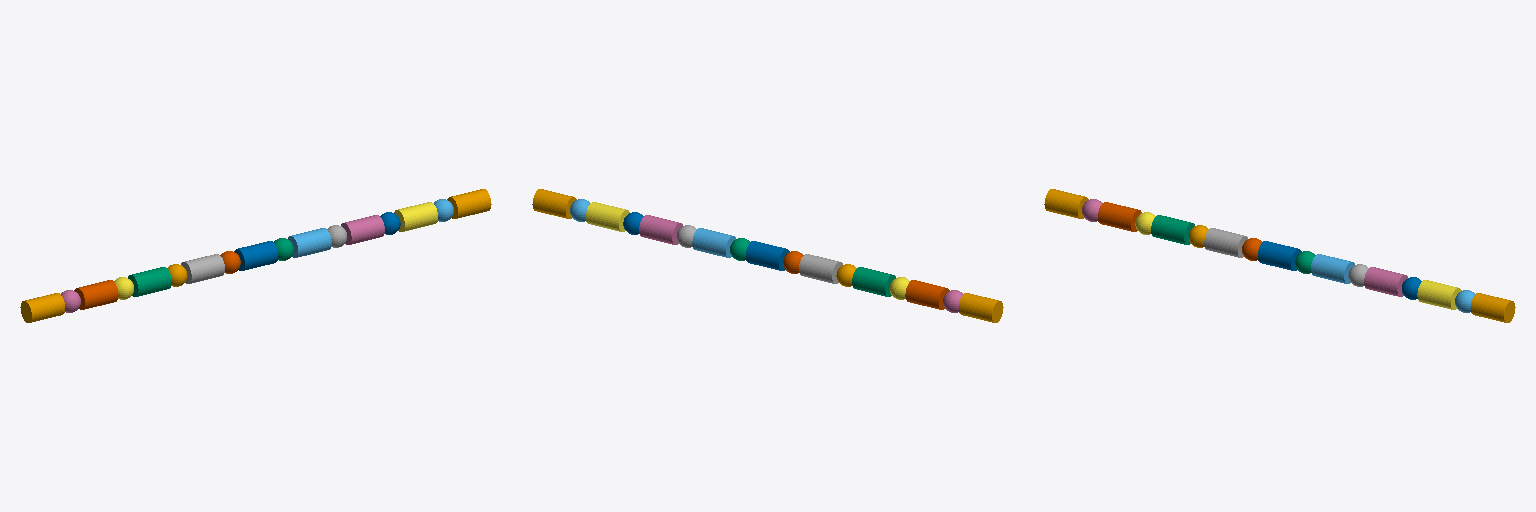
robot.urdf — cable/cable_8_segments:
<?xml version="1.0"?>
<robot name="cable/cable_8_segments">
 <link name="body0">
  <inertial>
    <mass value="1"/>
    <inertia ixx="0.0010583333333333334" ixy="0" ixz="0" iyy="0.0010583333333333334" iyz="0" izz="0.000225"/>
  </inertial>
  <visual>
    <origin rpy="0 1.57 0" xyz="0.05 0 0"/>
    <geometry>
      <cylinder length="0.1" radius="0.03"/>
    </geometry>
  </visual>
  <collision>
    <origin rpy="0 1.57 0" xyz="0.05 0 0"/>
    <geometry>
      <cylinder length="0.1" radius="0.03"/>
    </geometry>
  </collision>
 </link>

<link name="body1_joint_link">
  <inertial>
   <mass value="1"/>
   <inertia ixx="0.00035999999999999997" ixy="0" ixz="0" iyy="0.00035999999999999997" iyz="0" izz="0.00035999999999999997"/>
  </inertial>
  <collision>
    <origin rpy="0 0 0" xyz="0 0 0"/>
    <geometry>
      <sphere radius="0.03"/>
    </geometry>
  </collision>
  <visual>
    <origin rpy="0 0 0" xyz="0 0 0"/>
    <geometry>
      <sphere radius="0.03"/>
    </geometry>
  </visual>
</link>

<joint name="joint_fixed_body0_body1_joint_link" type="fixed">
  <origin rpy="0 0 0" xyz="-0.03001 0 0"/>
  <parent link="body0"/>
  <child link="body1_joint_link"/>
</joint>

<joint name="joint_spherical_body1_joint_link_body1_Z" type="revolute">
  <origin rpy="0 0 0" xyz="0 0 0"/>
  <parent link="body1_joint_link"/>
  <child link="body1_joint_link_spherical_joint_link"/>
  <axis xyz="0 0 1"/>
  <dynamics damping="0.01" friction="0.5"/>
  <limit lower="-1.5707963267948966" upper="1.5707963267948966" effort="0.01" velocity="100"/>
</joint>

<link name="body1_joint_link_spherical_joint_link" physical="0">
  <inertial>
   <mass value="1"/>
   <inertia ixx="4.0000000000000003e-07" ixy="0" ixz="0" iyy="4.0000000000000003e-07" iyz="0" izz="4.0000000000000003e-07"/>
  </inertial>
  <collision>
    <origin rpy="0 0 0" xyz="0 0 0"/>
    <geometry>
      <sphere radius="0.001"/>
    </geometry>
  </collision>
  <visual>
    <origin rpy="0 0 0" xyz="0 0 0"/>
    <geometry>
      <sphere radius="0.001"/>
    </geometry>
  </visual>
</link>

<joint name="joint_spherical_body1_joint_link_body1_Y" type="revolute">
  <origin rpy="0 0 0" xyz="0 0 0"/>
  <parent link="body1_joint_link_spherical_joint_link"/>
  <child link="body1"/>
  <axis xyz="0 1 0"/>
  <dynamics damping="0.01" friction="0.5"/>
  <limit lower="-1.5707963267948966" upper="1.5707963267948966" effort="0.01" velocity="100"/>
</joint>

 <link name="body1">
  <inertial>
    <mass value="1"/>
    <inertia ixx="0.0010583333333333334" ixy="0" ixz="0" iyy="0.0010583333333333334" iyz="0" izz="0.000225"/>
  </inertial>
  <visual>
    <origin rpy="0 1.57 0" xyz="-0.08001 0 0"/>
    <geometry>
      <cylinder length="0.1" radius="0.03"/>
    </geometry>
  </visual>
  <collision>
    <origin rpy="0 1.57 0" xyz="-0.08001 0 0"/>
    <geometry>
      <cylinder length="0.1" radius="0.03"/>
    </geometry>
  </collision>
 </link>

<link name="body2_joint_link">
  <inertial>
   <mass value="1"/>
   <inertia ixx="0.00035999999999999997" ixy="0" ixz="0" iyy="0.00035999999999999997" iyz="0" izz="0.00035999999999999997"/>
  </inertial>
  <collision>
    <origin rpy="0 0 0" xyz="0 0 0"/>
    <geometry>
      <sphere radius="0.03"/>
    </geometry>
  </collision>
  <visual>
    <origin rpy="0 0 0" xyz="0 0 0"/>
    <geometry>
      <sphere radius="0.03"/>
    </geometry>
  </visual>
</link>

<joint name="joint_fixed_body1_body2_joint_link" type="fixed">
  <origin rpy="0 0 0" xyz="-0.16001 0 0"/>
  <parent link="body1"/>
  <child link="body2_joint_link"/>
</joint>

<joint name="joint_spherical_body2_joint_link_body2_Z" type="revolute">
  <origin rpy="0 0 0" xyz="0 0 0"/>
  <parent link="body2_joint_link"/>
  <child link="body2_joint_link_spherical_joint_link"/>
  <axis xyz="0 0 1"/>
  <dynamics damping="0.01" friction="0.5"/>
  <limit lower="-1.5707963267948966" upper="1.5707963267948966" effort="0.01" velocity="100"/>
</joint>

<link name="body2_joint_link_spherical_joint_link" physical="0">
  <inertial>
   <mass value="1"/>
   <inertia ixx="4.0000000000000003e-07" ixy="0" ixz="0" iyy="4.0000000000000003e-07" iyz="0" izz="4.0000000000000003e-07"/>
  </inertial>
  <collision>
    <origin rpy="0 0 0" xyz="0 0 0"/>
    <geometry>
      <sphere radius="0.001"/>
    </geometry>
  </collision>
  <visual>
    <origin rpy="0 0 0" xyz="0 0 0"/>
    <geometry>
      <sphere radius="0.001"/>
    </geometry>
  </visual>
</link>

<joint name="joint_spherical_body2_joint_link_body2_Y" type="revolute">
  <origin rpy="0 0 0" xyz="0 0 0"/>
  <parent link="body2_joint_link_spherical_joint_link"/>
  <child link="body2"/>
  <axis xyz="0 1 0"/>
  <dynamics damping="0.01" friction="0.5"/>
  <limit lower="-1.5707963267948966" upper="1.5707963267948966" effort="0.01" velocity="100"/>
</joint>

 <link name="body2">
  <inertial>
    <mass value="1"/>
    <inertia ixx="0.0010583333333333334" ixy="0" ixz="0" iyy="0.0010583333333333334" iyz="0" izz="0.000225"/>
  </inertial>
  <visual>
    <origin rpy="0 1.57 0" xyz="-0.08001 0 0"/>
    <geometry>
      <cylinder length="0.1" radius="0.03"/>
    </geometry>
  </visual>
  <collision>
    <origin rpy="0 1.57 0" xyz="-0.08001 0 0"/>
    <geometry>
      <cylinder length="0.1" radius="0.03"/>
    </geometry>
  </collision>
 </link>

<link name="body3_joint_link">
  <inertial>
   <mass value="1"/>
   <inertia ixx="0.00035999999999999997" ixy="0" ixz="0" iyy="0.00035999999999999997" iyz="0" izz="0.00035999999999999997"/>
  </inertial>
  <collision>
    <origin rpy="0 0 0" xyz="0 0 0"/>
    <geometry>
      <sphere radius="0.03"/>
    </geometry>
  </collision>
  <visual>
    <origin rpy="0 0 0" xyz="0 0 0"/>
    <geometry>
      <sphere radius="0.03"/>
    </geometry>
  </visual>
</link>

<joint name="joint_fixed_body2_body3_joint_link" type="fixed">
  <origin rpy="0 0 0" xyz="-0.16001 0 0"/>
  <parent link="body2"/>
  <child link="body3_joint_link"/>
</joint>

<joint name="joint_spherical_body3_joint_link_body3_Z" type="revolute">
  <origin rpy="0 0 0" xyz="0 0 0"/>
  <parent link="body3_joint_link"/>
  <child link="body3_joint_link_spherical_joint_link"/>
  <axis xyz="0 0 1"/>
  <dynamics damping="0.01" friction="0.5"/>
  <limit lower="-1.5707963267948966" upper="1.5707963267948966" effort="0.01" velocity="100"/>
</joint>

<link name="body3_joint_link_spherical_joint_link" physical="0">
  <inertial>
   <mass value="1"/>
   <inertia ixx="4.0000000000000003e-07" ixy="0" ixz="0" iyy="4.0000000000000003e-07" iyz="0" izz="4.0000000000000003e-07"/>
  </inertial>
  <collision>
    <origin rpy="0 0 0" xyz="0 0 0"/>
    <geometry>
      <sphere radius="0.001"/>
    </geometry>
  </collision>
  <visual>
    <origin rpy="0 0 0" xyz="0 0 0"/>
    <geometry>
      <sphere radius="0.001"/>
    </geometry>
  </visual>
</link>

<joint name="joint_spherical_body3_joint_link_body3_Y" type="revolute">
  <origin rpy="0 0 0" xyz="0 0 0"/>
  <parent link="body3_joint_link_spherical_joint_link"/>
  <child link="body3"/>
  <axis xyz="0 1 0"/>
  <dynamics damping="0.01" friction="0.5"/>
  <limit lower="-1.5707963267948966" upper="1.5707963267948966" effort="0.01" velocity="100"/>
</joint>

 <link name="body3">
  <inertial>
    <mass value="1"/>
    <inertia ixx="0.0010583333333333334" ixy="0" ixz="0" iyy="0.0010583333333333334" iyz="0" izz="0.000225"/>
  </inertial>
  <visual>
    <origin rpy="0 1.57 0" xyz="-0.08001 0 0"/>
    <geometry>
      <cylinder length="0.1" radius="0.03"/>
    </geometry>
  </visual>
  <collision>
    <origin rpy="0 1.57 0" xyz="-0.08001 0 0"/>
    <geometry>
      <cylinder length="0.1" radius="0.03"/>
    </geometry>
  </collision>
 </link>

<link name="body4_joint_link">
  <inertial>
   <mass value="1"/>
   <inertia ixx="0.00035999999999999997" ixy="0" ixz="0" iyy="0.00035999999999999997" iyz="0" izz="0.00035999999999999997"/>
  </inertial>
  <collision>
    <origin rpy="0 0 0" xyz="0 0 0"/>
    <geometry>
      <sphere radius="0.03"/>
    </geometry>
  </collision>
  <visual>
    <origin rpy="0 0 0" xyz="0 0 0"/>
    <geometry>
      <sphere radius="0.03"/>
    </geometry>
  </visual>
</link>

<joint name="joint_fixed_body3_body4_joint_link" type="fixed">
  <origin rpy="0 0 0" xyz="-0.16001 0 0"/>
  <parent link="body3"/>
  <child link="body4_joint_link"/>
</joint>

<joint name="joint_spherical_body4_joint_link_body4_Z" type="revolute">
  <origin rpy="0 0 0" xyz="0 0 0"/>
  <parent link="body4_joint_link"/>
  <child link="body4_joint_link_spherical_joint_link"/>
  <axis xyz="0 0 1"/>
  <dynamics damping="0.01" friction="0.5"/>
  <limit lower="-1.5707963267948966" upper="1.5707963267948966" effort="0.01" velocity="100"/>
</joint>

<link name="body4_joint_link_spherical_joint_link" physical="0">
  <inertial>
   <mass value="1"/>
   <inertia ixx="4.0000000000000003e-07" ixy="0" ixz="0" iyy="4.0000000000000003e-07" iyz="0" izz="4.0000000000000003e-07"/>
  </inertial>
  <collision>
    <origin rpy="0 0 0" xyz="0 0 0"/>
    <geometry>
      <sphere radius="0.001"/>
    </geometry>
  </collision>
  <visual>
    <origin rpy="0 0 0" xyz="0 0 0"/>
    <geometry>
      <sphere radius="0.001"/>
    </geometry>
  </visual>
</link>

<joint name="joint_spherical_body4_joint_link_body4_Y" type="revolute">
  <origin rpy="0 0 0" xyz="0 0 0"/>
  <parent link="body4_joint_link_spherical_joint_link"/>
  <child link="body4"/>
  <axis xyz="0 1 0"/>
  <dynamics damping="0.01" friction="0.5"/>
  <limit lower="-1.5707963267948966" upper="1.5707963267948966" effort="0.01" velocity="100"/>
</joint>

 <link name="body4">
  <inertial>
    <mass value="1"/>
    <inertia ixx="0.0010583333333333334" ixy="0" ixz="0" iyy="0.0010583333333333334" iyz="0" izz="0.000225"/>
  </inertial>
  <visual>
    <origin rpy="0 1.57 0" xyz="-0.08001 0 0"/>
    <geometry>
      <cylinder length="0.1" radius="0.03"/>
    </geometry>
  </visual>
  <collision>
    <origin rpy="0 1.57 0" xyz="-0.08001 0 0"/>
    <geometry>
      <cylinder length="0.1" radius="0.03"/>
    </geometry>
  </collision>
 </link>

<link name="body5_joint_link">
  <inertial>
   <mass value="1"/>
   <inertia ixx="0.00035999999999999997" ixy="0" ixz="0" iyy="0.00035999999999999997" iyz="0" izz="0.00035999999999999997"/>
  </inertial>
  <collision>
    <origin rpy="0 0 0" xyz="0 0 0"/>
    <geometry>
      <sphere radius="0.03"/>
    </geometry>
  </collision>
  <visual>
    <origin rpy="0 0 0" xyz="0 0 0"/>
    <geometry>
      <sphere radius="0.03"/>
    </geometry>
  </visual>
</link>

<joint name="joint_fixed_body4_body5_joint_link" type="fixed">
  <origin rpy="0 0 0" xyz="-0.16001 0 0"/>
  <parent link="body4"/>
  <child link="body5_joint_link"/>
</joint>

<joint name="joint_spherical_body5_joint_link_body5_Z" type="revolute">
  <origin rpy="0 0 0" xyz="0 0 0"/>
  <parent link="body5_joint_link"/>
  <child link="body5_joint_link_spherical_joint_link"/>
  <axis xyz="0 0 1"/>
  <dynamics damping="0.01" friction="0.5"/>
  <limit lower="-1.5707963267948966" upper="1.5707963267948966" effort="0.01" velocity="100"/>
</joint>

<link name="body5_joint_link_spherical_joint_link" physical="0">
  <inertial>
   <mass value="1"/>
   <inertia ixx="4.0000000000000003e-07" ixy="0" ixz="0" iyy="4.0000000000000003e-07" iyz="0" izz="4.0000000000000003e-07"/>
  </inertial>
  <collision>
    <origin rpy="0 0 0" xyz="0 0 0"/>
    <geometry>
      <sphere radius="0.001"/>
    </geometry>
  </collision>
  <visual>
    <origin rpy="0 0 0" xyz="0 0 0"/>
    <geometry>
      <sphere radius="0.001"/>
    </geometry>
  </visual>
</link>

<joint name="joint_spherical_body5_joint_link_body5_Y" type="revolute">
  <origin rpy="0 0 0" xyz="0 0 0"/>
  <parent link="body5_joint_link_spherical_joint_link"/>
  <child link="body5"/>
  <axis xyz="0 1 0"/>
  <dynamics damping="0.01" friction="0.5"/>
  <limit lower="-1.5707963267948966" upper="1.5707963267948966" effort="0.01" velocity="100"/>
</joint>

 <link name="body5">
  <inertial>
    <mass value="1"/>
    <inertia ixx="0.0010583333333333334" ixy="0" ixz="0" iyy="0.0010583333333333334" iyz="0" izz="0.000225"/>
  </inertial>
  <visual>
    <origin rpy="0 1.57 0" xyz="-0.08001 0 0"/>
    <geometry>
      <cylinder length="0.1" radius="0.03"/>
    </geometry>
  </visual>
  <collision>
    <origin rpy="0 1.57 0" xyz="-0.08001 0 0"/>
    <geometry>
      <cylinder length="0.1" radius="0.03"/>
    </geometry>
  </collision>
 </link>

<link name="body6_joint_link">
  <inertial>
   <mass value="1"/>
   <inertia ixx="0.00035999999999999997" ixy="0" ixz="0" iyy="0.00035999999999999997" iyz="0" izz="0.00035999999999999997"/>
  </inertial>
  <collision>
    <origin rpy="0 0 0" xyz="0 0 0"/>
    <geometry>
      <sphere radius="0.03"/>
    </geometry>
  </collision>
  <visual>
    <origin rpy="0 0 0" xyz="0 0 0"/>
    <geometry>
      <sphere radius="0.03"/>
    </geometry>
  </visual>
</link>

<joint name="joint_fixed_body5_body6_joint_link" type="fixed">
  <origin rpy="0 0 0" xyz="-0.16001 0 0"/>
  <parent link="body5"/>
  <child link="body6_joint_link"/>
</joint>

<joint name="joint_spherical_body6_joint_link_body6_Z" type="revolute">
  <origin rpy="0 0 0" xyz="0 0 0"/>
  <parent link="body6_joint_link"/>
  <child link="body6_joint_link_spherical_joint_link"/>
  <axis xyz="0 0 1"/>
  <dynamics damping="0.01" friction="0.5"/>
  <limit lower="-1.5707963267948966" upper="1.5707963267948966" effort="0.01" velocity="100"/>
</joint>

<link name="body6_joint_link_spherical_joint_link" physical="0">
  <inertial>
   <mass value="1"/>
   <inertia ixx="4.0000000000000003e-07" ixy="0" ixz="0" iyy="4.0000000000000003e-07" iyz="0" izz="4.0000000000000003e-07"/>
  </inertial>
  <collision>
    <origin rpy="0 0 0" xyz="0 0 0"/>
    <geometry>
      <sphere radius="0.001"/>
    </geometry>
  </collision>
  <visual>
    <origin rpy="0 0 0" xyz="0 0 0"/>
    <geometry>
      <sphere radius="0.001"/>
    </geometry>
  </visual>
</link>

<joint name="joint_spherical_body6_joint_link_body6_Y" type="revolute">
  <origin rpy="0 0 0" xyz="0 0 0"/>
  <parent link="body6_joint_link_spherical_joint_link"/>
  <child link="body6"/>
  <axis xyz="0 1 0"/>
  <dynamics damping="0.01" friction="0.5"/>
  <limit lower="-1.5707963267948966" upper="1.5707963267948966" effort="0.01" velocity="100"/>
</joint>

 <link name="body6">
  <inertial>
    <mass value="1"/>
    <inertia ixx="0.0010583333333333334" ixy="0" ixz="0" iyy="0.0010583333333333334" iyz="0" izz="0.000225"/>
  </inertial>
  <visual>
    <origin rpy="0 1.57 0" xyz="-0.08001 0 0"/>
    <geometry>
      <cylinder length="0.1" radius="0.03"/>
    </geometry>
  </visual>
  <collision>
    <origin rpy="0 1.57 0" xyz="-0.08001 0 0"/>
    <geometry>
      <cylinder length="0.1" radius="0.03"/>
    </geometry>
  </collision>
 </link>

<link name="body7_joint_link">
  <inertial>
   <mass value="1"/>
   <inertia ixx="0.00035999999999999997" ixy="0" ixz="0" iyy="0.00035999999999999997" iyz="0" izz="0.00035999999999999997"/>
  </inertial>
  <collision>
    <origin rpy="0 0 0" xyz="0 0 0"/>
    <geometry>
      <sphere radius="0.03"/>
    </geometry>
  </collision>
  <visual>
    <origin rpy="0 0 0" xyz="0 0 0"/>
    <geometry>
      <sphere radius="0.03"/>
    </geometry>
  </visual>
</link>

<joint name="joint_fixed_body6_body7_joint_link" type="fixed">
  <origin rpy="0 0 0" xyz="-0.16001 0 0"/>
  <parent link="body6"/>
  <child link="body7_joint_link"/>
</joint>

<joint name="joint_spherical_body7_joint_link_body7_Z" type="revolute">
  <origin rpy="0 0 0" xyz="0 0 0"/>
  <parent link="body7_joint_link"/>
  <child link="body7_joint_link_spherical_joint_link"/>
  <axis xyz="0 0 1"/>
  <dynamics damping="0.01" friction="0.5"/>
  <limit lower="-1.5707963267948966" upper="1.5707963267948966" effort="0.01" velocity="100"/>
</joint>

<link name="body7_joint_link_spherical_joint_link" physical="0">
  <inertial>
   <mass value="1"/>
   <inertia ixx="4.0000000000000003e-07" ixy="0" ixz="0" iyy="4.0000000000000003e-07" iyz="0" izz="4.0000000000000003e-07"/>
  </inertial>
  <collision>
    <origin rpy="0 0 0" xyz="0 0 0"/>
    <geometry>
      <sphere radius="0.001"/>
    </geometry>
  </collision>
  <visual>
    <origin rpy="0 0 0" xyz="0 0 0"/>
    <geometry>
      <sphere radius="0.001"/>
    </geometry>
  </visual>
</link>

<joint name="joint_spherical_body7_joint_link_body7_Y" type="revolute">
  <origin rpy="0 0 0" xyz="0 0 0"/>
  <parent link="body7_joint_link_spherical_joint_link"/>
  <child link="body7"/>
  <axis xyz="0 1 0"/>
  <dynamics damping="0.01" friction="0.5"/>
  <limit lower="-1.5707963267948966" upper="1.5707963267948966" effort="0.01" velocity="100"/>
</joint>

 <link name="body7">
  <inertial>
    <mass value="1"/>
    <inertia ixx="0.0010583333333333334" ixy="0" ixz="0" iyy="0.0010583333333333334" iyz="0" izz="0.000225"/>
  </inertial>
  <visual>
    <origin rpy="0 1.57 0" xyz="-0.08001 0 0"/>
    <geometry>
      <cylinder length="0.1" radius="0.03"/>
    </geometry>
  </visual>
  <collision>
    <origin rpy="0 1.57 0" xyz="-0.08001 0 0"/>
    <geometry>
      <cylinder length="0.1" radius="0.03"/>
    </geometry>
  </collision>
 </link>

<link name="body8_joint_link">
  <inertial>
   <mass value="1"/>
   <inertia ixx="0.00035999999999999997" ixy="0" ixz="0" iyy="0.00035999999999999997" iyz="0" izz="0.00035999999999999997"/>
  </inertial>
  <collision>
    <origin rpy="0 0 0" xyz="0 0 0"/>
    <geometry>
      <sphere radius="0.03"/>
    </geometry>
  </collision>
  <visual>
    <origin rpy="0 0 0" xyz="0 0 0"/>
    <geometry>
      <sphere radius="0.03"/>
    </geometry>
  </visual>
</link>

<joint name="joint_fixed_body7_body8_joint_link" type="fixed">
  <origin rpy="0 0 0" xyz="-0.16001 0 0"/>
  <parent link="body7"/>
  <child link="body8_joint_link"/>
</joint>

<joint name="joint_spherical_body8_joint_link_body8_Z" type="revolute">
  <origin rpy="0 0 0" xyz="0 0 0"/>
  <parent link="body8_joint_link"/>
  <child link="body8_joint_link_spherical_joint_link"/>
  <axis xyz="0 0 1"/>
  <dynamics damping="0.01" friction="0.5"/>
  <limit lower="-1.5707963267948966" upper="1.5707963267948966" effort="0.01" velocity="100"/>
</joint>

<link name="body8_joint_link_spherical_joint_link" physical="0">
  <inertial>
   <mass value="1"/>
   <inertia ixx="4.0000000000000003e-07" ixy="0" ixz="0" iyy="4.0000000000000003e-07" iyz="0" izz="4.0000000000000003e-07"/>
  </inertial>
  <collision>
    <origin rpy="0 0 0" xyz="0 0 0"/>
    <geometry>
      <sphere radius="0.001"/>
    </geometry>
  </collision>
  <visual>
    <origin rpy="0 0 0" xyz="0 0 0"/>
    <geometry>
      <sphere radius="0.001"/>
    </geometry>
  </visual>
</link>

<joint name="joint_spherical_body8_joint_link_body8_Y" type="revolute">
  <origin rpy="0 0 0" xyz="0 0 0"/>
  <parent link="body8_joint_link_spherical_joint_link"/>
  <child link="body8"/>
  <axis xyz="0 1 0"/>
  <dynamics damping="0.01" friction="0.5"/>
  <limit lower="-1.5707963267948966" upper="1.5707963267948966" effort="0.01" velocity="100"/>
</joint>

 <link name="body8">
  <inertial>
    <mass value="1"/>
    <inertia ixx="0.0010583333333333334" ixy="0" ixz="0" iyy="0.0010583333333333334" iyz="0" izz="0.000225"/>
  </inertial>
  <visual>
    <origin rpy="0 1.57 0" xyz="-0.08001 0 0"/>
    <geometry>
      <cylinder length="0.1" radius="0.03"/>
    </geometry>
  </visual>
  <collision>
    <origin rpy="0 1.57 0" xyz="-0.08001 0 0"/>
    <geometry>
      <cylinder length="0.1" radius="0.03"/>
    </geometry>
  </collision>
 </link>

  <klampt package_root="../../.." default_acc_max="4" >
  </klampt>
</robot>

--- Render facts (derived) ---
3 views of the same robot in one strip: view 1: azimuth 30°, elevation 25°; view 2: azimuth 150°, elevation 25°; view 3: azimuth 330°, elevation 25° (orthographic).
Robot: cable/cable_8_segments — 25 links, 24 joints (16 revolute, 8 fixed); root link body0; default pose: every joint at zero.
Links seen in each view (by area): view 1: body8, body2, body6, body3, body5, body1, body7, body0, body4; view 2: body8, body2, body6, body3, body5, body1, body7, body0, body4; view 3: body0, body2, body6, body5, body3, body1, body7, body4, body8.
Link boxes in pixels (x1,y1,x2,y2): body8: [20, 293, 64, 322]; body2: [341, 215, 384, 244]; body6: [128, 267, 171, 296]; body3: [288, 228, 331, 257]; body5: [181, 254, 224, 283]; body1: [394, 202, 437, 231]; body7: [74, 280, 118, 309]; body0: [447, 189, 491, 218]; body4: [234, 241, 277, 270]; body8: [959, 293, 1003, 322]; body2: [639, 215, 682, 244]; body6: [852, 267, 895, 296]; body3: [692, 228, 735, 257]; body5: [799, 254, 842, 283]; body1: [586, 202, 629, 231]; body7: [905, 280, 949, 309]; body0: [532, 189, 576, 218]; body4: [746, 241, 789, 270]; body0: [1471, 293, 1515, 322]; body2: [1364, 267, 1407, 296]; body6: [1151, 215, 1194, 244]; body5: [1204, 228, 1247, 257]; body3: [1311, 254, 1354, 283]; body1: [1417, 280, 1461, 309]; body7: [1098, 202, 1141, 231]; body4: [1258, 241, 1301, 270]; body8: [1044, 189, 1088, 218].
Size in the robot's own frame: 1.38 by 0.06 by 0.0601 metres.
Geometry: primitives only (box / cylinder / sphere), no mesh files.
